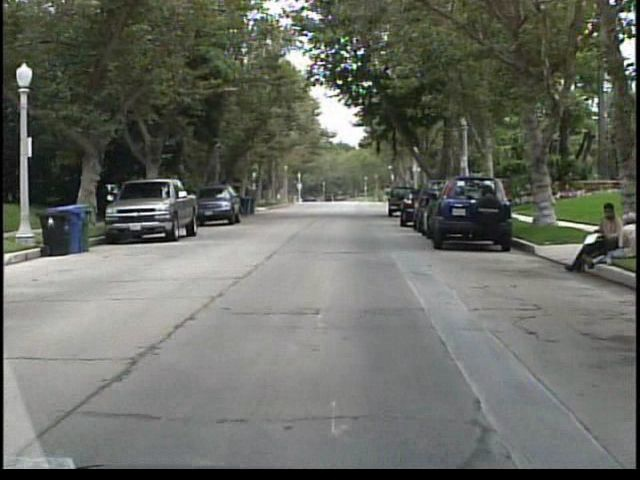person: (560, 200, 618, 275), (611, 214, 637, 263)
